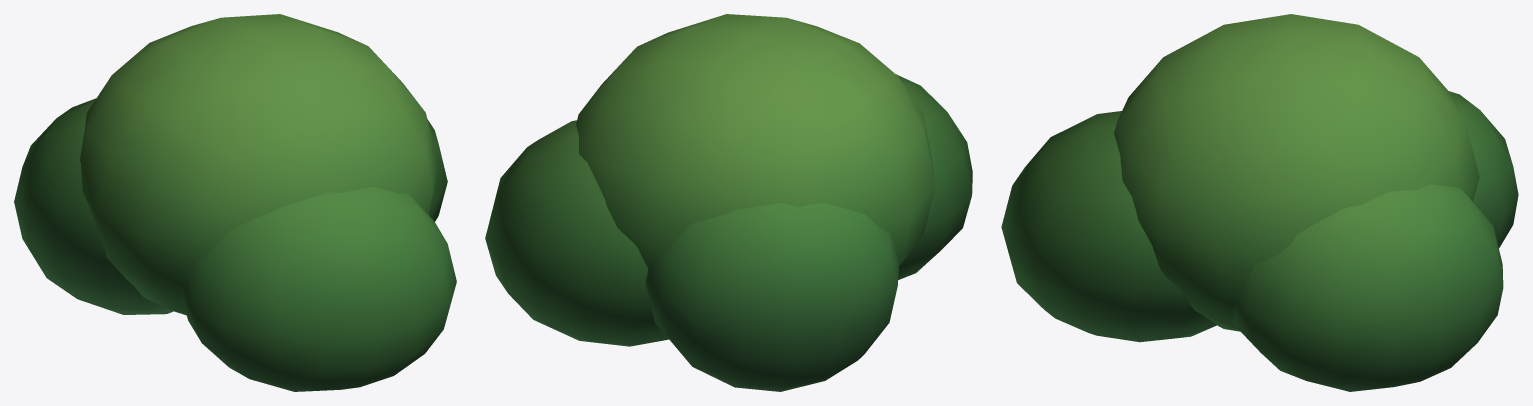
Rendered from bush_1.glb.
3 views of the same model, side by side, from view 1: azimuth 30°, elevation 25°; view 2: azimuth 150°, elevation 25°; view 3: azimuth 270°, elevation 25° (orthographic). The views are drawn at different scales.
Parts seen in each view (by area): view 1: bush_1; view 2: bush_1; view 3: bush_1.
Boxes of the visible parts, left/top/right/bottom form: bush_1: left=14, top=14, right=456, bottom=391; bush_1: left=485, top=14, right=972, bottom=391; bush_1: left=1001, top=14, right=1518, bottom=391.
Size of the model in its own units: 1.5 by 1.08 by 1.7.
